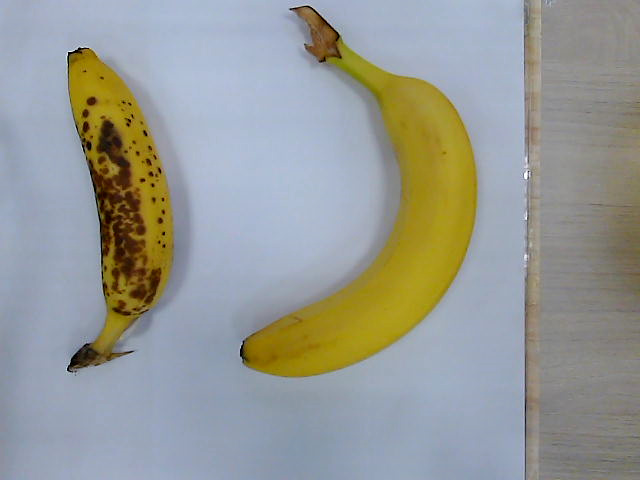fresh_banana: (241, 7, 476, 379)
rotten_banana: (67, 46, 173, 375)
